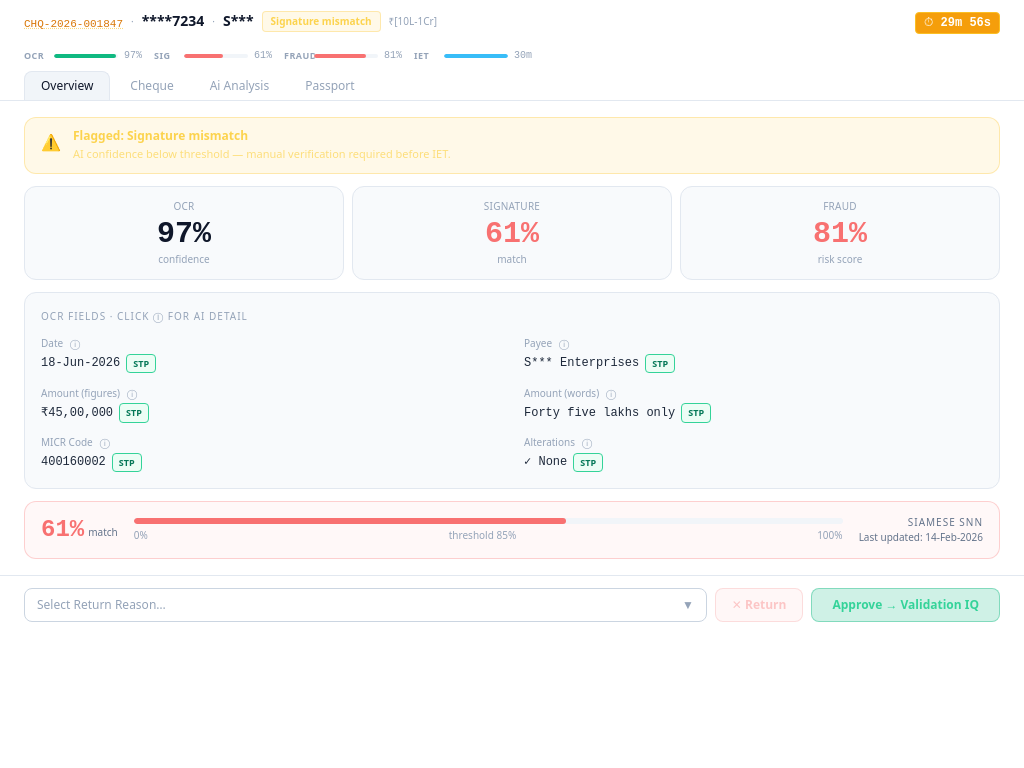
it: ReviewPanel — tabs › switches to AI analysis tab
The width and height of the screenshot is (1024, 768).
Click the button "ai analysis" at (239, 86), box [194,71,285,100]
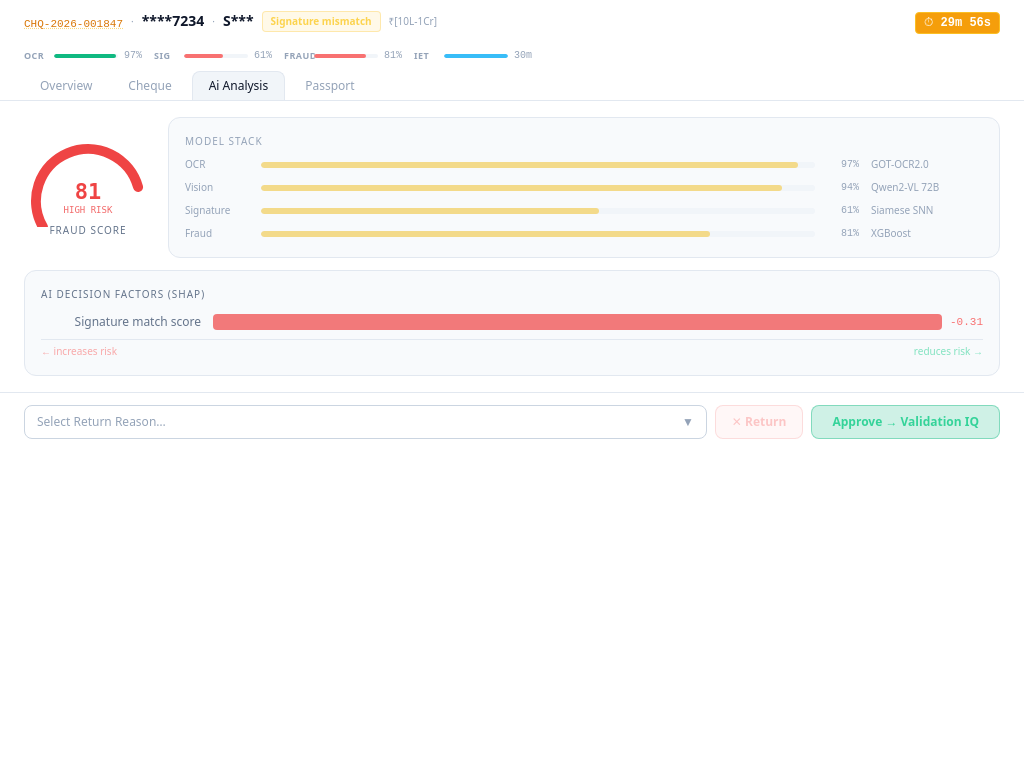
Result: the text "Model Stack" is shown at [185,134,263,148]
Result: the text "GOT-OCR2.0" is shown at [871,157,929,171]
Result: the text "XGBoost" is shown at [871,226,911,240]
